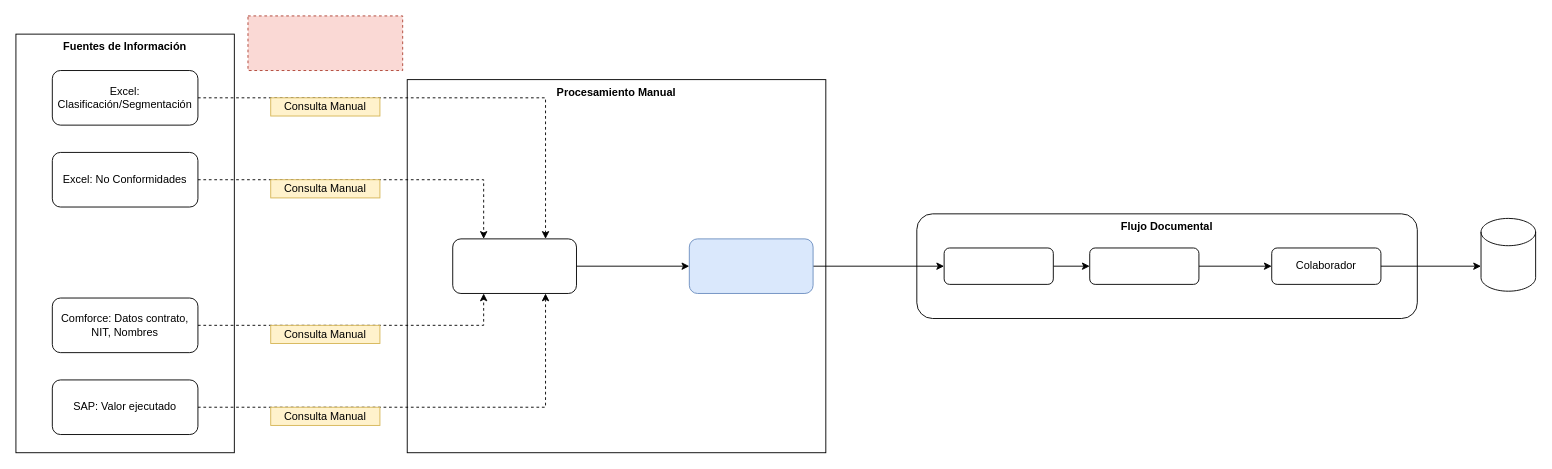
This 1552x469 diagram has some shape labels left out. Each missing label, with the centre of its shape:
Dynamics: [998,265]
Negociador/Profesional: [514,265]
Onbase: [1508,254]
Plantilla Word PNA0075: [750,265]
Prov. Estándar -> Semestral Prov. Clave -> Semestral Prov. Operativo -> Anual: [325,43]
SMAX: [1144,265]
